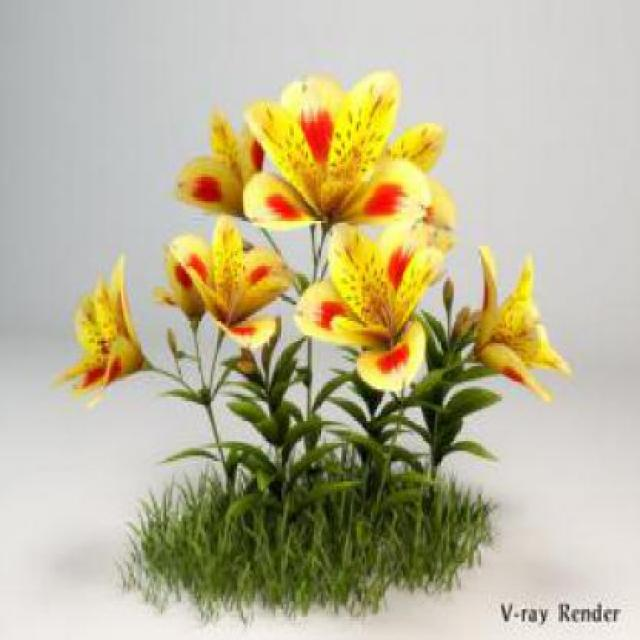Flower: (243, 72, 429, 230), (296, 215, 444, 392), (166, 215, 294, 346), (478, 243, 573, 402), (50, 256, 150, 407)
